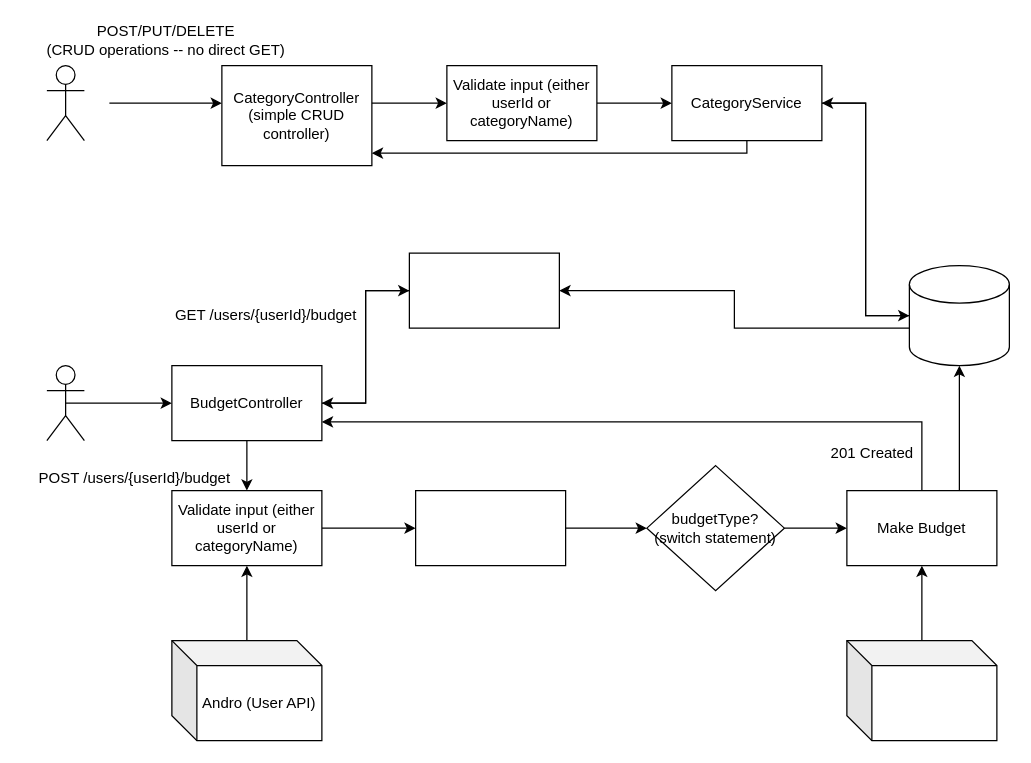
The diagram is 1031 pixels wide and 763 high, and some of its shapes have lost their labels. Here are the shapes that lost their labels. From the top down, the centre of each, then its label:
At (483,290): "BudgetService - find by userId".
At (958,315): "t_categories".
At (490,527): "BudgetService - create Budget".
At (921,690): "Demeter (Cost of Living API)".
